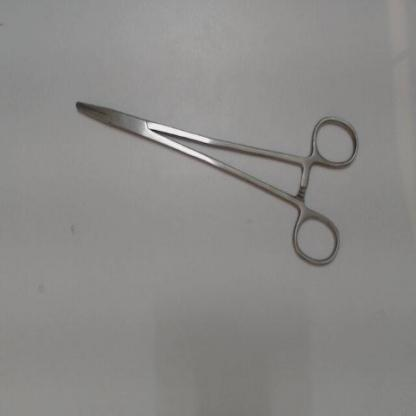8 Mayo Needle Holder: (64, 92, 368, 275)
